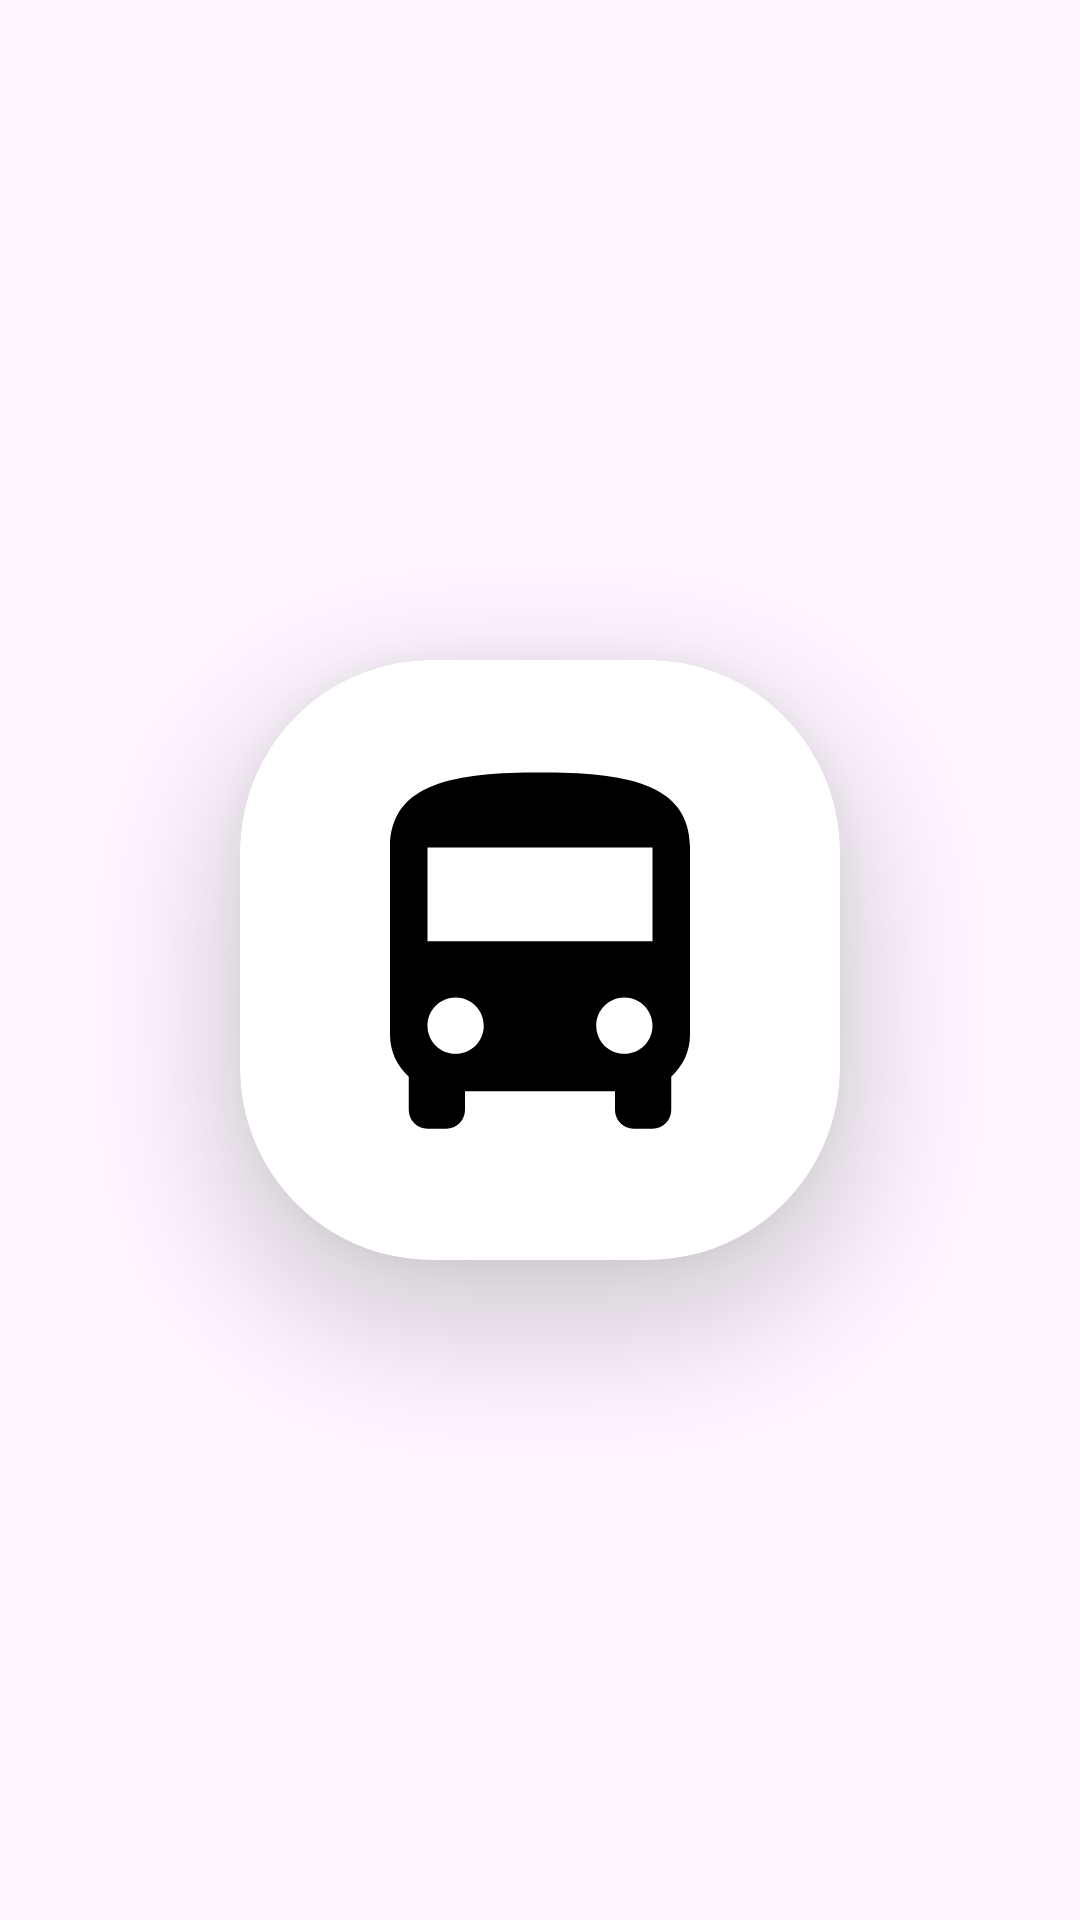

Icon click points for this 1080w x 1920h phone screenshot, format point (x, y):
directions bus: point (540, 950)
